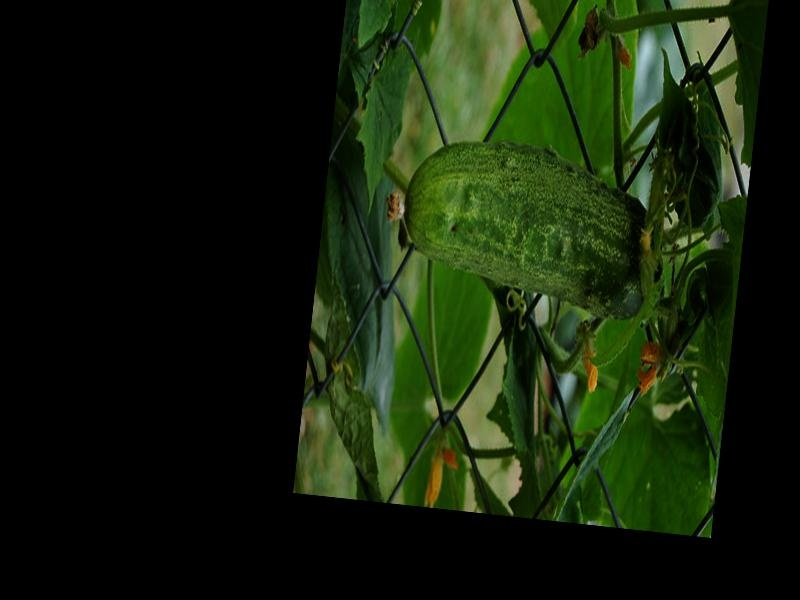Cucumber: (391, 140, 671, 319)
